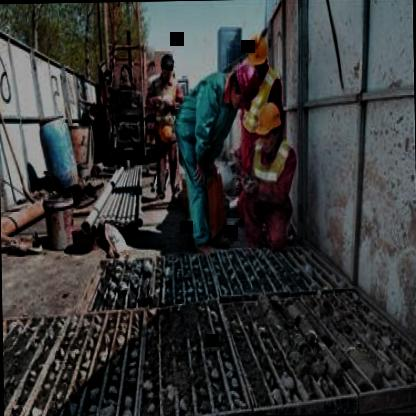head: (159, 54, 175, 80)
helmet: (242, 26, 270, 86), (228, 58, 260, 106), (256, 101, 284, 154)
